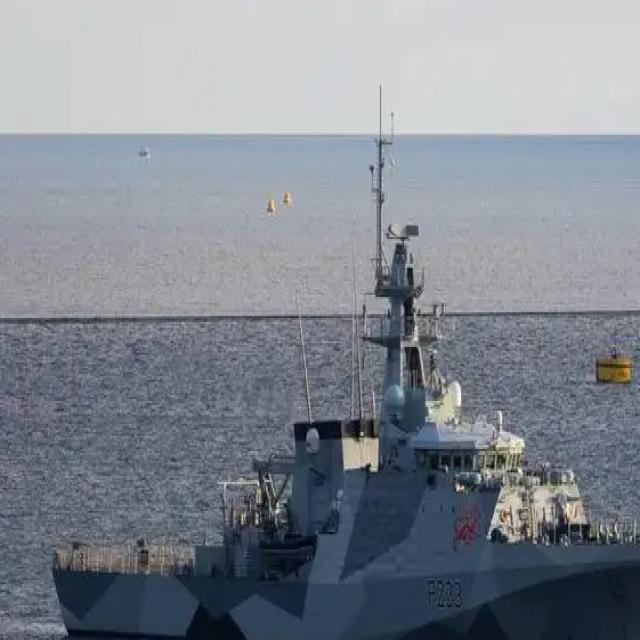buoy: (590, 320, 634, 394), (261, 183, 280, 216), (282, 185, 294, 205)
navalvessels: (44, 121, 640, 640)
